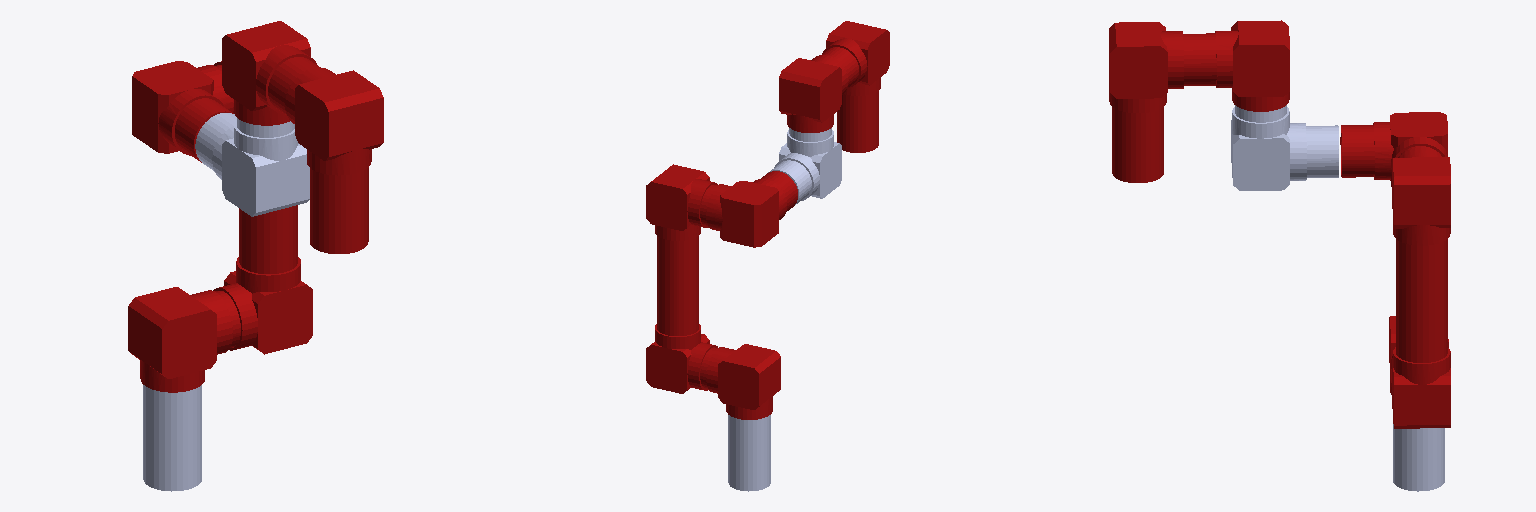
robot.urdf — main.SLDASM:
<?xml version="1.0" encoding="utf-8"?>
<!-- This URDF was automatically created by SolidWorks to URDF Exporter! Originally created by Stephen Brawner (brawner@gmail.com) 
     Commit Version: 1.6.0-4-g7f85cfe  Build Version: 1.6.7995.38578
     For more information, please see http://wiki.ros.org/sw_urdf_exporter -->
<robot
  name="main.SLDASM">
  <link
    name="base_link">
    <inertial>
      <origin
        xyz="3.46944695195361E-18 1.38777878078145E-17 0.075"
        rpy="0 0 0" />
      <mass
        value="0.143256625003694" />
      <inertia
        ixx="0.000372323968384601"
        ixy="-1.58818677610181E-21"
        ixz="-1.0285575569695E-35"
        iyy="0.000372323968384601"
        iyz="0"
        izz="0.000207435593005349" />
    </inertial>
    <visual>
      <origin
        xyz="0 0 0"
        rpy="0 0 0" />
      <geometry>
        <mesh
          filename="package://main.SLDASM/meshes/base_link.STL" />
      </geometry>
      <material
        name="">
        <color
          rgba="0.792156862745098 0.819607843137255 0.933333333333333 1" />
      </material>
    </visual>
    <collision>
      <origin
        xyz="0 0 0"
        rpy="0 0 0" />
      <geometry>
        <mesh
          filename="package://main.SLDASM/meshes/base_link.STL" />
      </geometry>
    </collision>
  </link>
  <link
    name="link_1">
    <inertial>
      <origin
        xyz="0.00362481794800643 0.0668625577781287 -0.000105804994992006"
        rpy="0 0 0" />
      <mass
        value="0.736043634441938" />
      <inertia
        ixx="0.00102090764778083"
        ixy="-5.23033827639762E-06"
        ixz="1.12494374893344E-06"
        iyy="0.00101077248719127"
        iyz="1.52503670276064E-07"
        izz="0.00105941132594028" />
    </inertial>
    <visual>
      <origin
        xyz="0 0 0"
        rpy="0 0 0" />
      <geometry>
        <mesh
          filename="package://main.SLDASM/meshes/link_1.STL" />
      </geometry>
      <material
        name="">
        <color
          rgba="0.694117647058824 0.0980392156862745 0.0980392156862745 1" />
      </material>
    </visual>
    <collision>
      <origin
        xyz="0 0 0"
        rpy="0 0 0" />
      <geometry>
        <mesh
          filename="package://main.SLDASM/meshes/link_1.STL" />
      </geometry>
    </collision>
  </link>
  <joint
    name="joint_1"
    type="revolute">
    <origin
      xyz="0 0 0.15"
      rpy="1.5708 0 0" />
    <parent
      link="base_link" />
    <child
      link="link_1" />
    <axis
      xyz="0 1 0" />
    <limit
      lower="0"
      upper="3.142"
      effort="200"
      velocity="2" />
  </joint>
  <link
    name="link_2">
    <inertial>
      <origin
        xyz="-0.0831982209071441 -0.170468389355022 -0.00438871371356891"
        rpy="0 0 0" />
      <mass
        value="1.64877043972177" />
      <inertia
        ixx="0.00279606682372159"
        ixy="9.14054771931044E-12"
        ixz="-2.54420324733001E-06"
        iyy="0.00228748537923418"
        iyz="-3.13166752633644E-10"
        izz="0.00288316019152682" />
    </inertial>
    <visual>
      <origin
        xyz="0 0 0"
        rpy="0 0 0" />
      <geometry>
        <mesh
          filename="package://main.SLDASM/meshes/link_2.STL" />
      </geometry>
      <material
        name="">
        <color
          rgba="0.694117647058824 0.0980392156862745 0.0980392156862745 1" />
      </material>
    </visual>
    <collision>
      <origin
        xyz="0 0 0"
        rpy="0 0 0" />
      <geometry>
        <mesh
          filename="package://main.SLDASM/meshes/link_2.STL" />
      </geometry>
    </collision>
  </link>
  <joint
    name="joint_2"
    type="revolute">
    <origin
      xyz="0.067165 0.069 0"
      rpy="0 0 3.1416" />
    <parent
      link="link_1" />
    <child
      link="link_2" />
    <axis
      xyz="0.99957 0 0.029175" />
    <limit
      lower="1.57"
      upper="-1.57"
      effort="200"
      velocity="2" />
  </joint>
  <link
    name="link_3">
    <inertial>
      <origin
        xyz="-0.0645835652017776 -0.0129999776332978 -5.45071410229525E-09"
        rpy="0 0 0" />
      <mass
        value="0.769470181395826" />
      <inertia
        ixx="0.00104541570698944"
        ixy="-6.75259283826194E-06"
        ixz="1.69569912937752E-10"
        iyy="0.0010685138198415"
        iyz="-1.46207289585275E-10"
        izz="0.00109332475532326" />
    </inertial>
    <visual>
      <origin
        xyz="0 0 0"
        rpy="0 0 0" />
      <geometry>
        <mesh
          filename="package://main.SLDASM/meshes/link_3.STL" />
      </geometry>
      <material
        name="">
        <color
          rgba="0.694117647058824 0.0980392156862745 0.0980392156862745 1" />
      </material>
    </visual>
    <collision>
      <origin
        xyz="0 0 0"
        rpy="0 0 0" />
      <geometry>
        <mesh
          filename="package://main.SLDASM/meshes/link_3.STL" />
      </geometry>
    </collision>
  </link>
  <joint
    name="joint_3"
    type="revolute">
    <origin
      xyz="-0.00010175 -0.338 -0.0029536"
      rpy="-1.5708 -0.034437 3.1416" />
    <parent
      link="link_2" />
    <child
      link="link_3" />
    <axis
      xyz="0.99798 0.063573 0" />
    <limit
      lower="-3.142"
      upper="0"
      effort="200"
      velocity="2" />
  </joint>
  <link
    name="link_4">
    <inertial>
      <origin
        xyz="0.00251349525201633 0.115754867193959 0.0152827158325012"
        rpy="0 0 0" />
      <mass
        value="0.788571063609959" />
      <inertia
        ixx="0.00107267149757045"
        ixy="-5.05949809064177E-06"
        ixz="-3.5679935503406E-06"
        iyy="0.00108383935493592"
        iyz="-1.99944899677327E-06"
        izz="0.00110733297662783" />
    </inertial>
    <visual>
      <origin
        xyz="0 0 0"
        rpy="0 0 0" />
      <geometry>
        <mesh
          filename="package://main.SLDASM/meshes/link_4.STL" />
      </geometry>
      <material
        name="">
        <color
          rgba="0.792156862745098 0.819607843137255 0.933333333333333 1" />
      </material>
    </visual>
    <collision>
      <origin
        xyz="0 0 0"
        rpy="0 0 0" />
      <geometry>
        <mesh
          filename="package://main.SLDASM/meshes/link_4.STL" />
      </geometry>
    </collision>
  </link>
  <joint
    name="joint_4"
    type="revolute">
    <origin
      xyz="-0.067216 -0.12335 0"
      rpy="0 -1.4787 3.1416" />
    <parent
      link="link_3" />
    <child
      link="link_4" />
    <axis
      xyz="-0.0058478 0.99798 0.063304" />
    <limit
      lower="1.57"
      upper="-1.57"
      effort="200"
      velocity="2" />
  </joint>
  <link
    name="link_5">
    <inertial>
      <origin
        xyz="0.0126404312140632 0.0669554103827241 -0.0159762595690212"
        rpy="0 0 0" />
      <mass
        value="0.769470180276134" />
      <inertia
        ixx="0.00106937365988974"
        ixy="-5.22198654643492E-06"
        ixz="1.52589324096934E-06"
        iyy="0.00104465307693971"
        iyz="3.32494156113947E-07"
        izz="0.00109322754194773" />
    </inertial>
    <visual>
      <origin
        xyz="0 0 0"
        rpy="0 0 0" />
      <geometry>
        <mesh
          filename="package://main.SLDASM/meshes/link_5.STL" />
      </geometry>
      <material
        name="">
        <color
          rgba="0.694117647058824 0.0980392156862745 0.0980392156862745 1" />
      </material>
    </visual>
    <collision>
      <origin
        xyz="0 0 0"
        rpy="0 0 0" />
      <geometry>
        <mesh
          filename="package://main.SLDASM/meshes/link_5.STL" />
      </geometry>
    </collision>
  </link>
  <joint
    name="joint_5"
    type="revolute">
    <origin
      xyz="0.088623 0.11865 0.0081866"
      rpy="3.0495 0 1.5708" />
    <parent
      link="link_4" />
    <child
      link="link_5" />
    <axis
      xyz="0 1 0" />
    <limit
      lower="1.57"
      upper="-1.57"
      effort="200"
      velocity="2" />
  </joint>
  <link
    name="link_6">
    <inertial>
      <origin
        xyz="-0.0712176854552279 -0.0195586262443915 0.027307580007391"
        rpy="0 0 0" />
      <mass
        value="0.836323262577853" />
      <inertia
        ixx="0.00122082856342789"
        ixy="-5.22199387714476E-06"
        ixz="3.08813030560715E-06"
        iyy="0.00116608056459732"
        iyz="3.32521762917573E-07"
        izz="0.00126910763188996" />
    </inertial>
    <visual>
      <origin
        xyz="0 0 0"
        rpy="0 0 0" />
      <geometry>
        <mesh
          filename="package://main.SLDASM/meshes/link_6.STL" />
      </geometry>
      <material
        name="">
        <color
          rgba="0.694117647058824 0.0980392156862745 0.0980392156862745 1" />
      </material>
    </visual>
    <collision>
      <origin
        xyz="0 0 0"
        rpy="0 0 0" />
      <geometry>
        <mesh
          filename="package://main.SLDASM/meshes/link_6.STL" />
      </geometry>
    </collision>
  </link>
  <joint
    name="joint_6"
    type="revolute">
    <origin
      xyz="0.1193 0.069 0"
      rpy="3.1416 0 3.1416" />
    <parent
      link="link_5" />
    <child
      link="link_6" />
    <axis
      xyz="-0.99798 0 0.063573" />
    <limit
      lower="-1.57"
      upper="1.57"
      effort="200"
      velocity="2" />
  </joint>
</robot>

--- What the picture shows (computed from the rendered views, not written in the file) ---
Views: 3 orthographic renders of the robot side by side, from view 1: azimuth 30°, elevation 25°; view 2: azimuth 150°, elevation 25°; view 3: azimuth 270°, elevation 25°.
Robot: main.SLDASM — 7 links, 6 joints (6 revolute); root link base_link; default pose: every joint at zero.
Visible links, largest first — view 1: link_6, link_2, link_1, link_4, link_3, link_5, base_link; view 2: link_2, link_6, link_3, link_5, link_1, link_4, base_link; view 3: link_2, link_6, link_5, link_4, link_3, base_link.
Boxes of the visible links, <box> form: link_6: <box>285,67,383,253</box>; link_2: <box>213,61,312,354</box>; link_1: <box>128,287,240,392</box>; link_4: <box>195,113,309,216</box>; link_3: <box>132,61,233,162</box>; link_5: <box>222,21,320,125</box>; base_link: <box>143,385,201,491</box>; link_2: <box>646,164,717,393</box>; link_6: <box>822,21,889,152</box>; link_3: <box>706,171,797,247</box>; link_5: <box>779,47,858,132</box>; link_1: <box>700,344,780,419</box>; link_4: <box>768,128,841,204</box>; base_link: <box>728,415,770,491</box>; link_2: <box>1392,146,1450,428</box>; link_6: <box>1109,22,1183,182</box>; link_5: <box>1183,20,1289,111</box>; link_4: <box>1231,105,1338,190</box>; link_3: <box>1340,112,1447,186</box>; base_link: <box>1393,424,1444,491</box>.
Size in the robot's own frame: 0.2435 by 0.5248 by 0.759 metres.
7 mesh visuals loaded from 7 distinct referenced files (7 binary STL).
